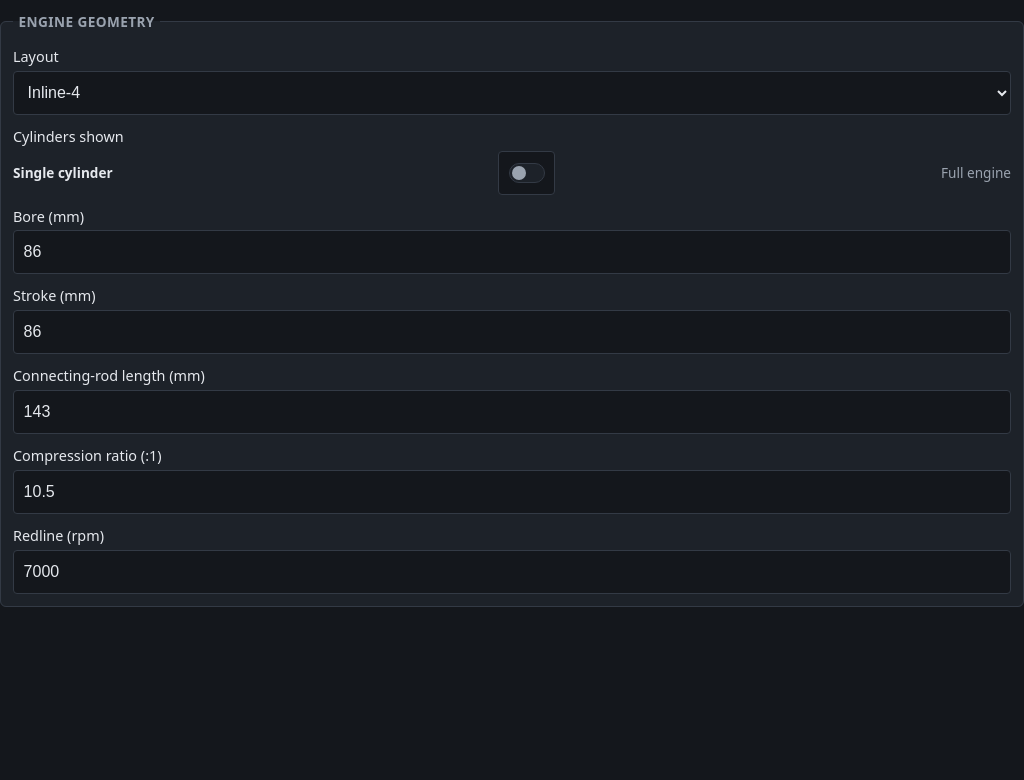
Test: EngineGeometryControls › shows a validation message and does not update the store for a compression ratio above 20:1
The image size is (1024, 780).
Replace the text in the number field labelled "Compression ratio (:1)" with "25" at (512,492), box [13,470,1011,514]
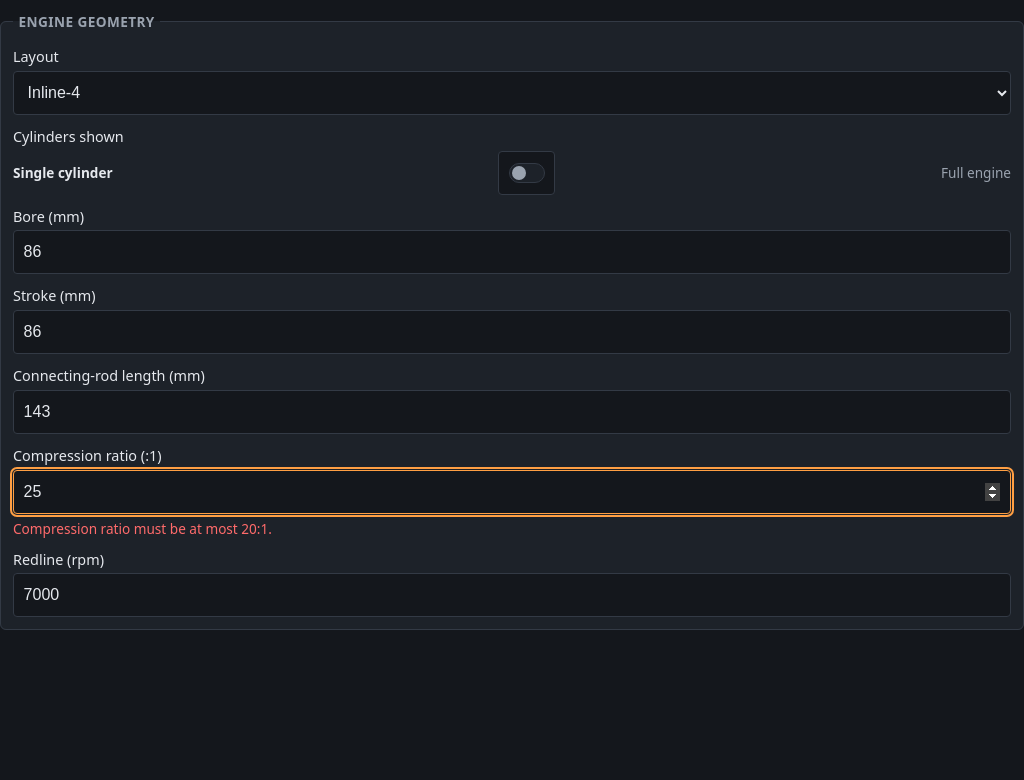
Expected: the message reads "Compression ratio must be at most 20:1.", [13,519,272,538]
